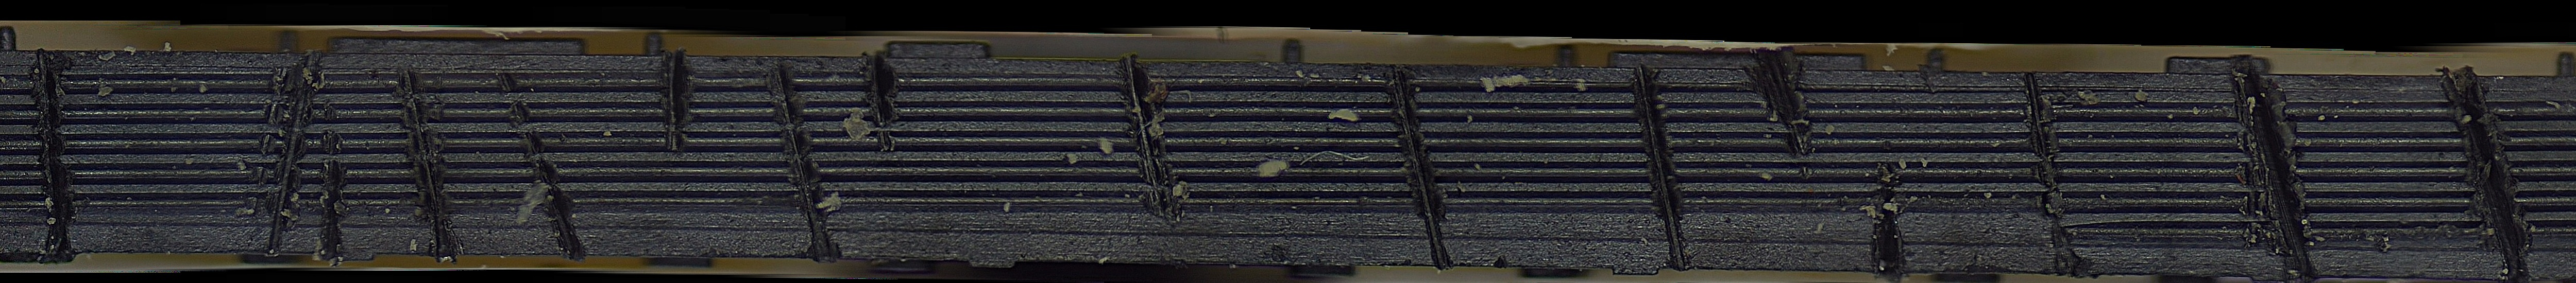Scratches: (2436, 59, 2545, 283), (2224, 63, 2336, 276), (250, 54, 356, 262), (752, 54, 851, 260), (486, 71, 591, 262), (1613, 63, 1705, 268), (381, 64, 468, 262), (2011, 71, 2093, 276), (1383, 66, 1461, 263), (16, 48, 80, 263), (1111, 54, 1191, 219), (1743, 44, 1827, 169), (1855, 171, 1916, 280), (649, 49, 700, 153), (858, 51, 905, 156)
dust: (496, 176, 555, 224), (1291, 143, 1372, 173), (1060, 133, 1112, 176), (1477, 66, 1538, 102), (1249, 146, 1291, 188), (841, 104, 874, 151), (1856, 196, 1909, 224), (810, 189, 849, 214), (1316, 102, 1360, 123), (2075, 84, 2116, 107), (2129, 82, 2159, 107)
